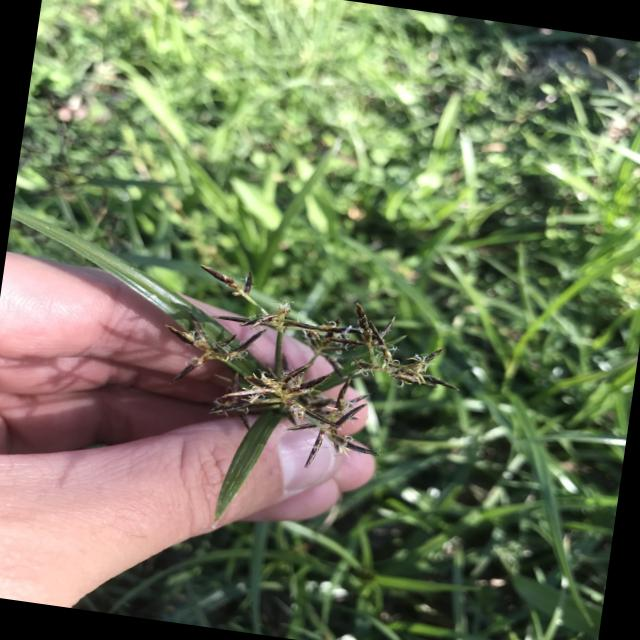cyperus: (140, 252, 465, 482)
